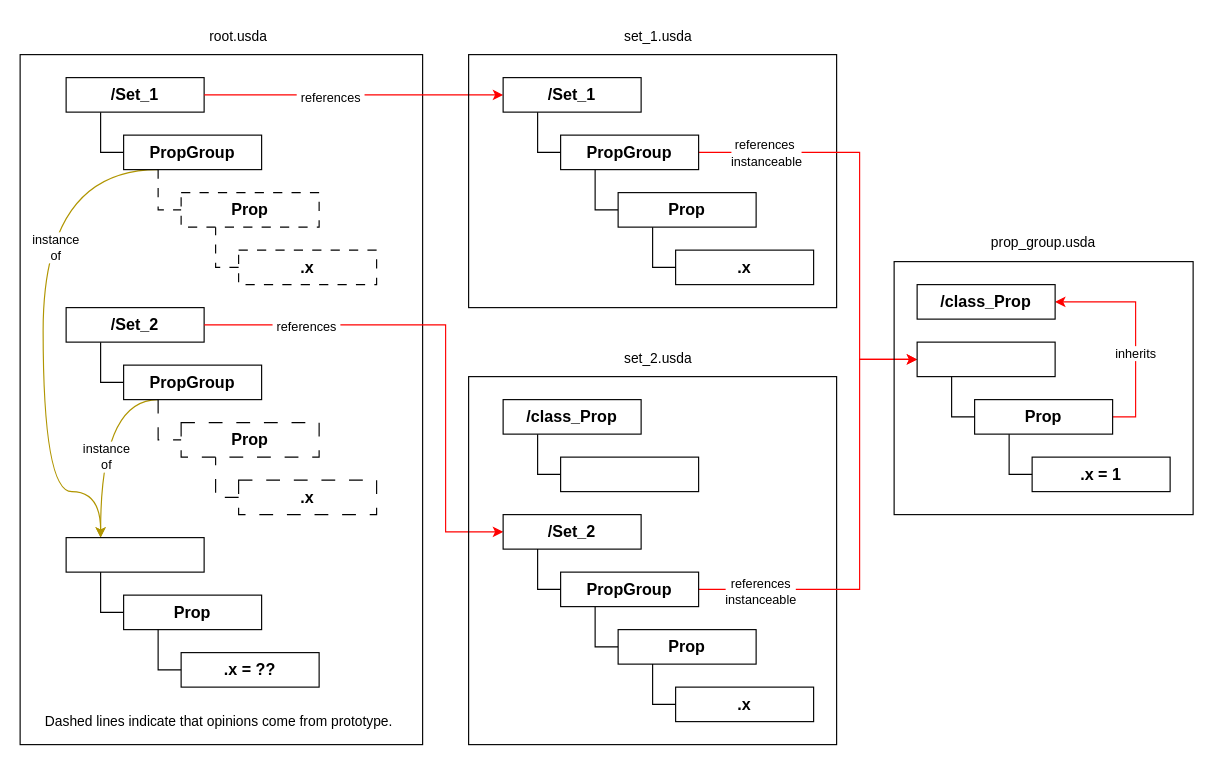
Image size: 1213x765. Some labels were removed from this diagram. Here are the shapes that lost their labels. From the top down, the centre of each, then its label:
At [985,359]: "/PropGroup".
At [629,474]: ".x = 2".
At [134,554]: "/__Prototype_1".
